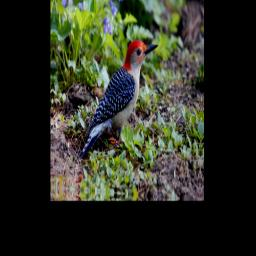Woodpecker: (78, 34, 158, 166)
